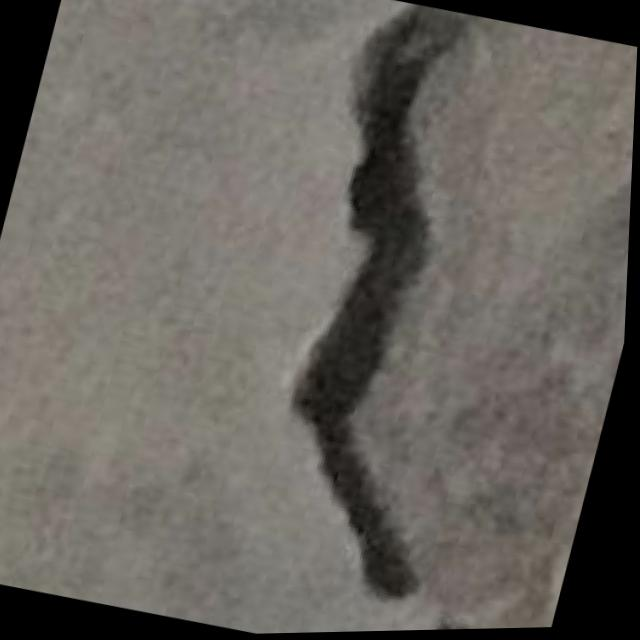Crack: (190, 0, 640, 636)
